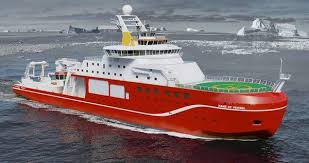boat: (12, 14, 288, 142)
